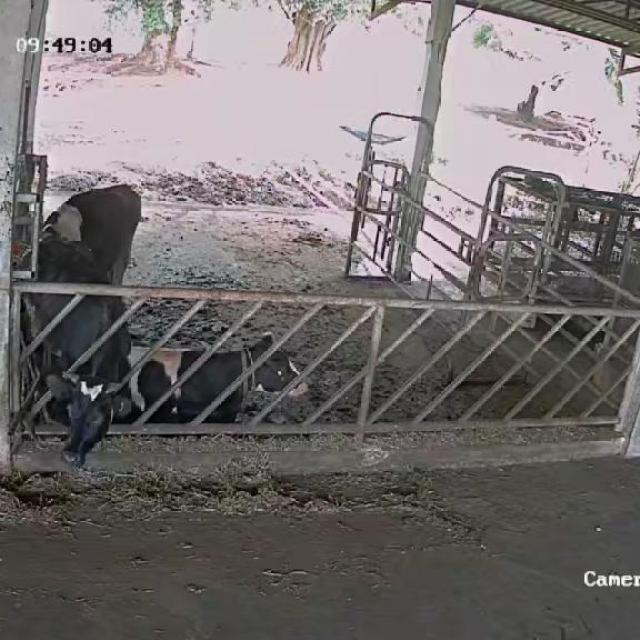drinking: (18, 181, 148, 289)
feeding: (20, 232, 132, 479)
lying down: (113, 330, 313, 429)
